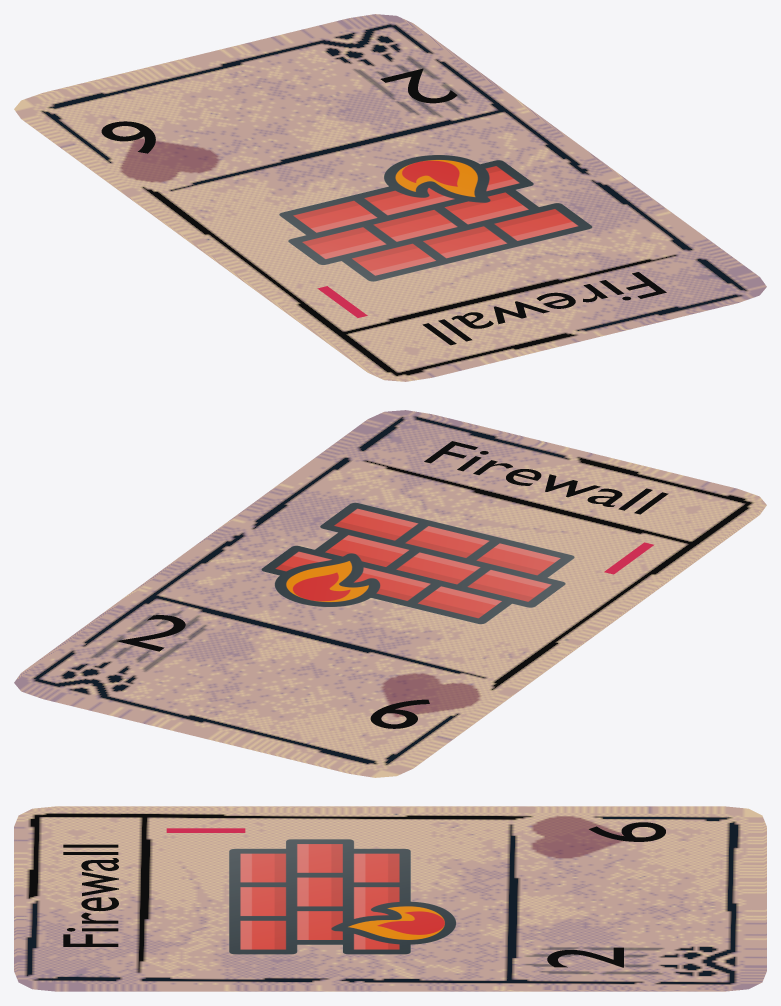
File: Firewall.glb
The picture shows the model from 3 angles, top to bottom: view 1: azimuth 30°, elevation 25°; view 2: azimuth 150°, elevation 25°; view 3: azimuth 270°, elevation 25°; orthographic projection. The views are drawn at different scales.
Visible parts, largest first — view 1: Firewall; view 2: Firewall; view 3: Firewall.
Boxes of the visible parts, left/top/right/bottom form: Firewall: left=14, top=14, right=766, bottom=381; Firewall: left=14, top=410, right=766, bottom=777; Firewall: left=14, top=806, right=766, bottom=991.
Size of what is drawn, in the model's own units: 44.93 by 0.4028 by 77.22.
Materials: 5 (2 with a texture image).
